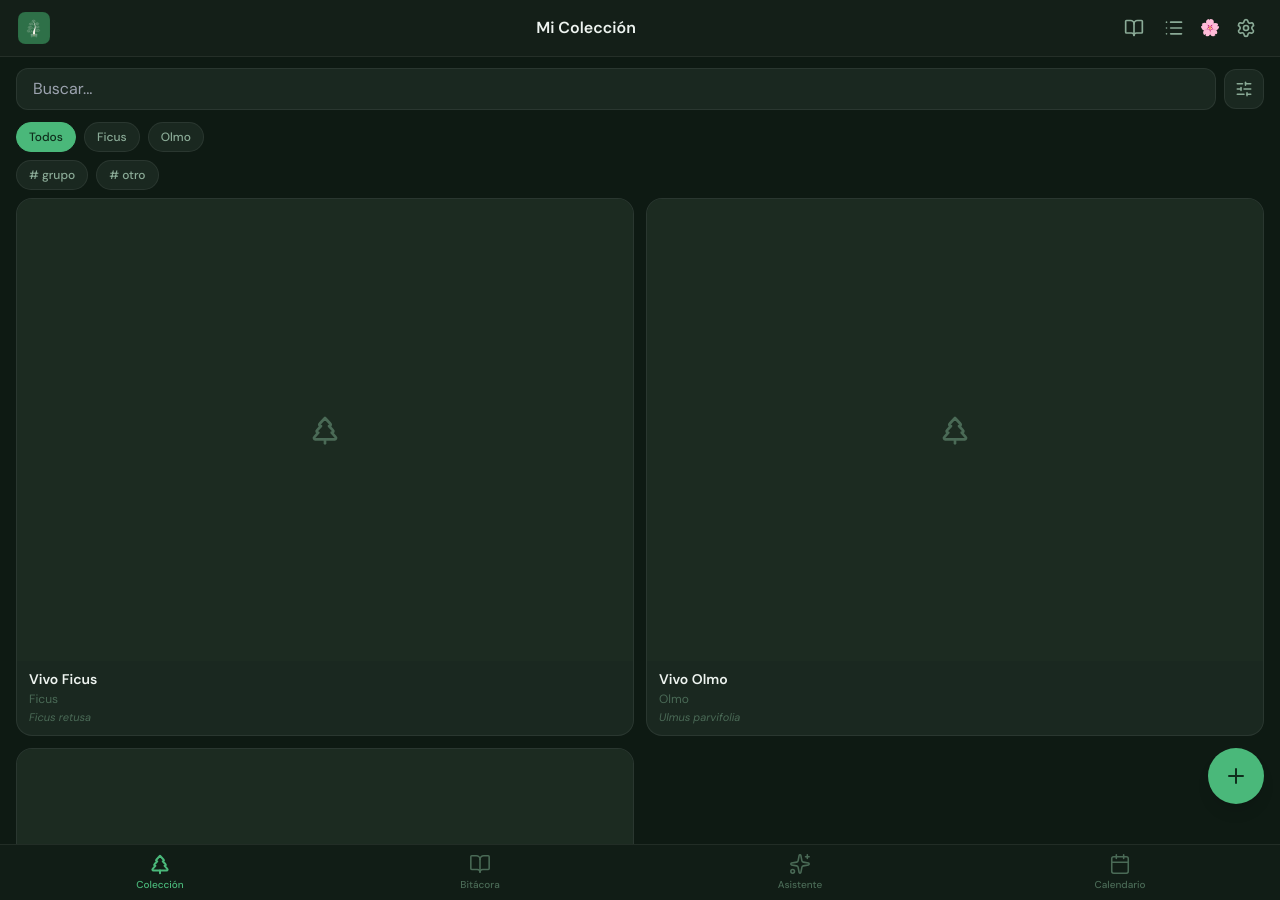
Test: F037 — visibilidad de fallecidos en Mi Colección › cerrar el panel sin aplicar descarta el cambio del check
This screenshot has width=1280, height=900.
Click the button named "Filtros avanzados".
click(1244, 89)  # box left=1224, top=69, right=1264, bottom=109
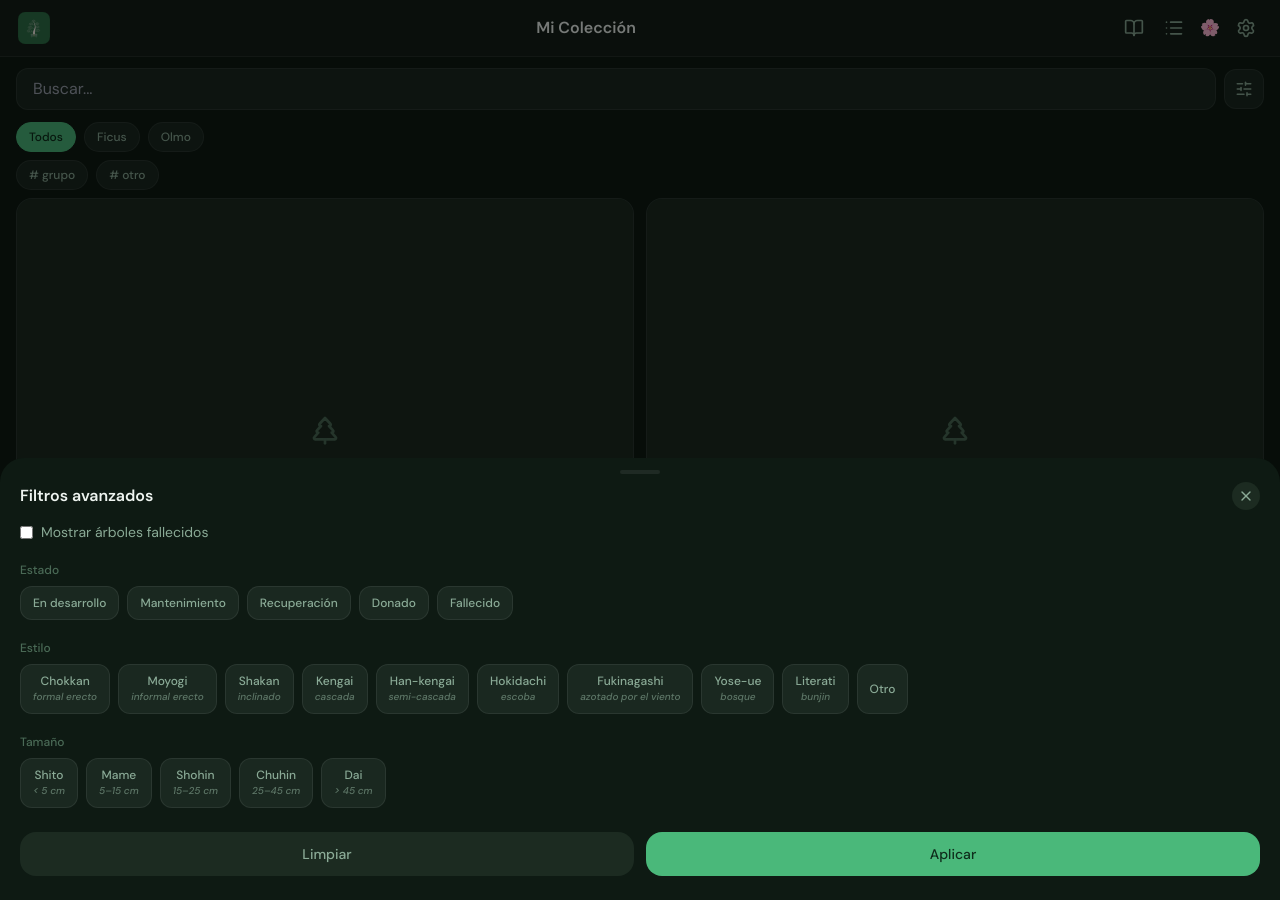
Click the checkbox labelled "Mostrar árboles fallecidos".
click(26, 532)  # box left=20, top=526, right=33, bottom=538
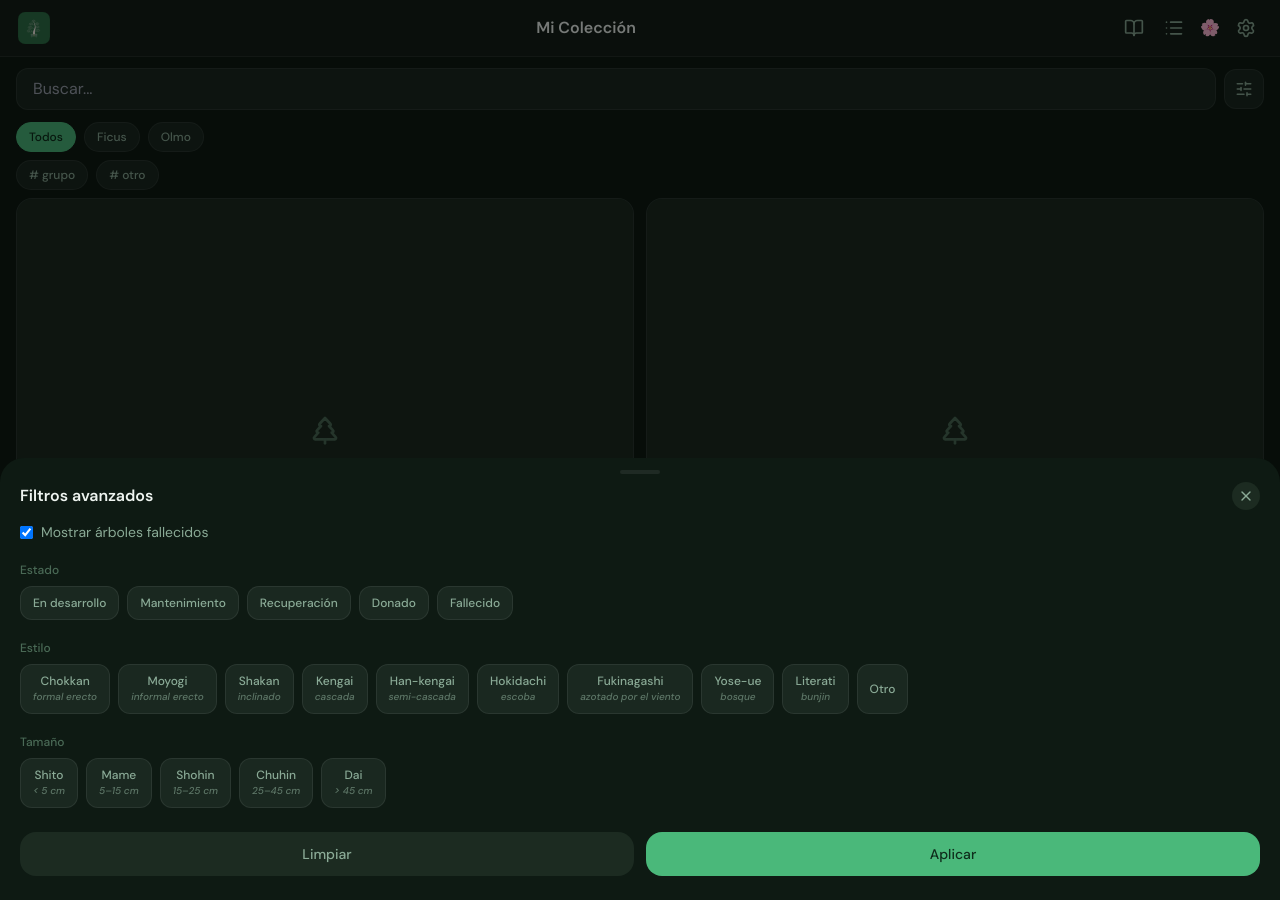
expect the button named "Cerrar" is shown: met
Click the button named "Cerrar".
click(1246, 496)  # box left=1232, top=482, right=1260, bottom=510
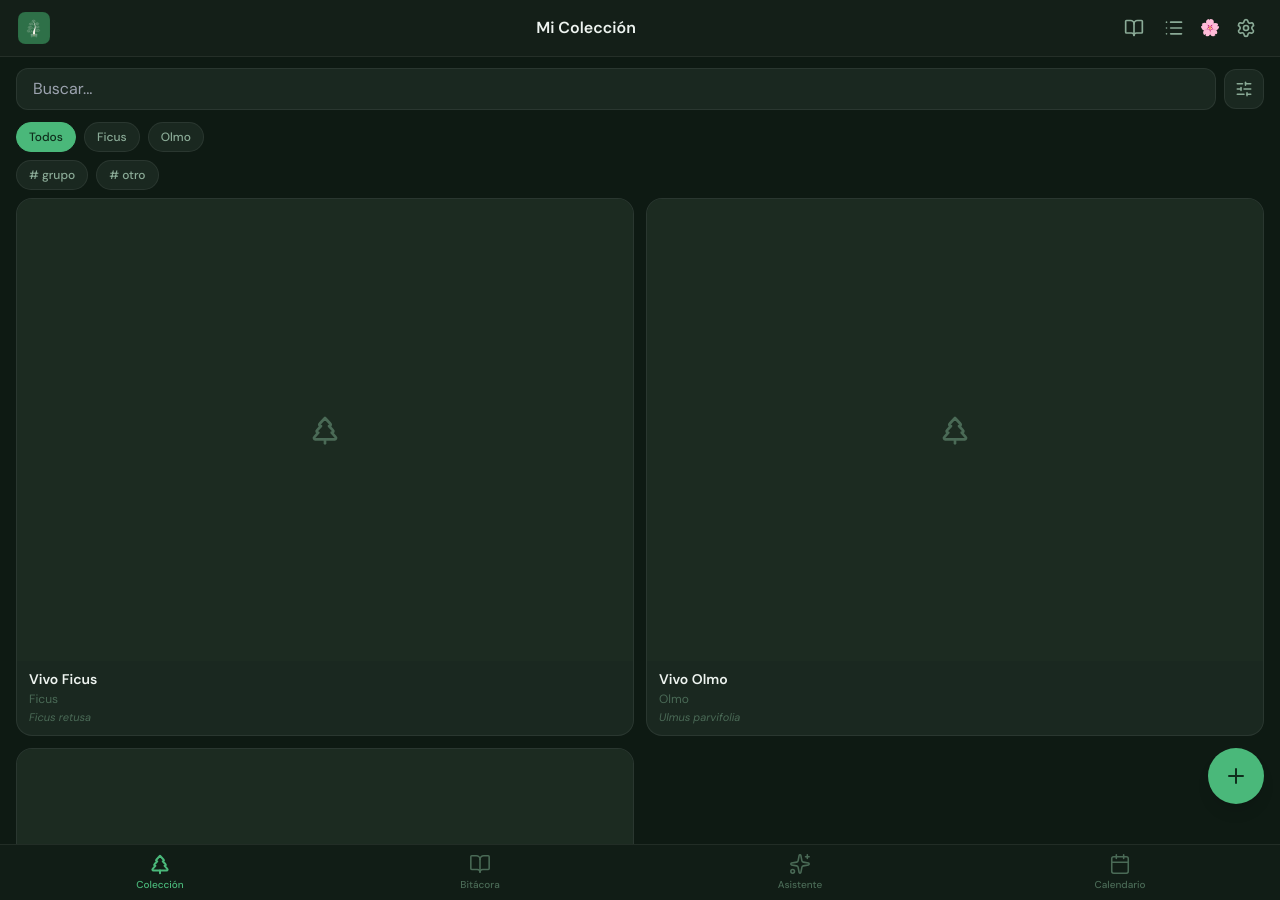
Click the button named "Filtros avanzados".
click(1244, 89)  # box left=1224, top=69, right=1264, bottom=109
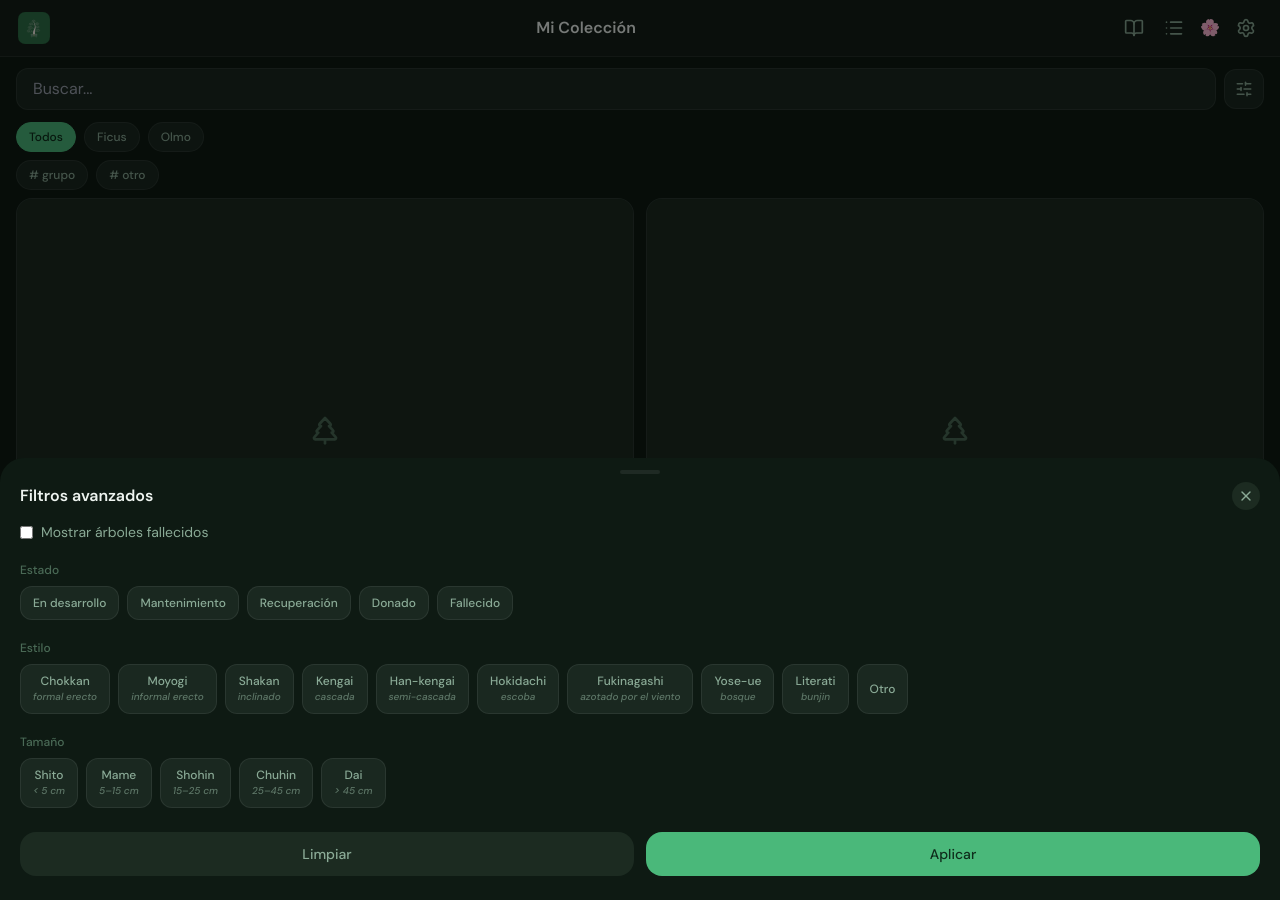
expect the checkbox labelled "Mostrar árboles fallecidos" is not checked: met, box left=20, top=526, right=33, bottom=538
